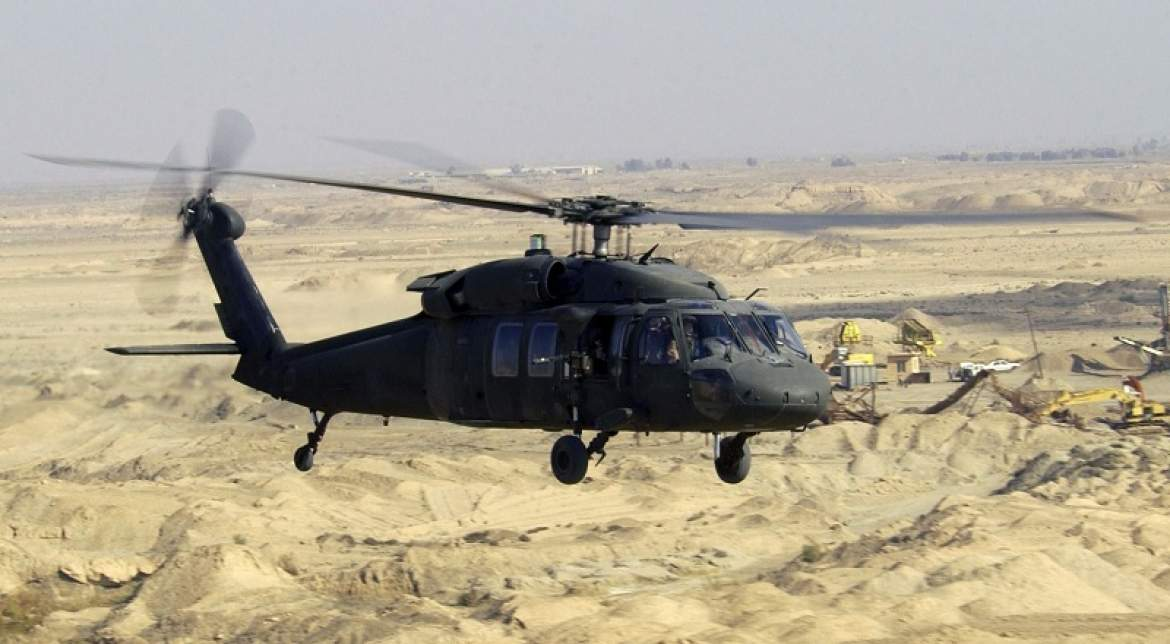MilitaryHelicopter: (141, 148, 878, 499)
